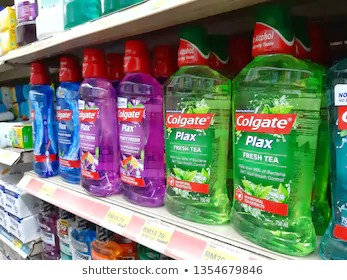colgate-Plax: (234, 15, 324, 251), (164, 22, 235, 221), (119, 37, 166, 206), (80, 49, 116, 193), (54, 53, 81, 182)
